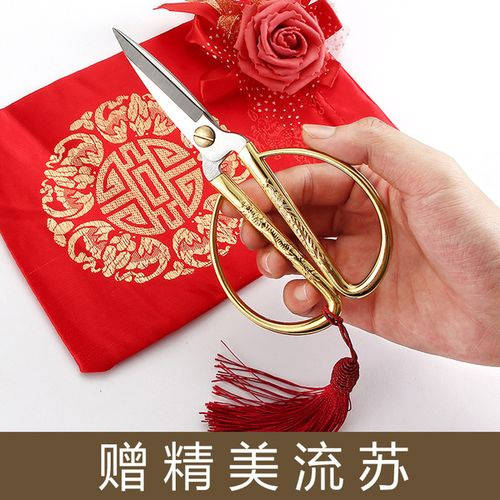scissor: (112, 27, 391, 337)
